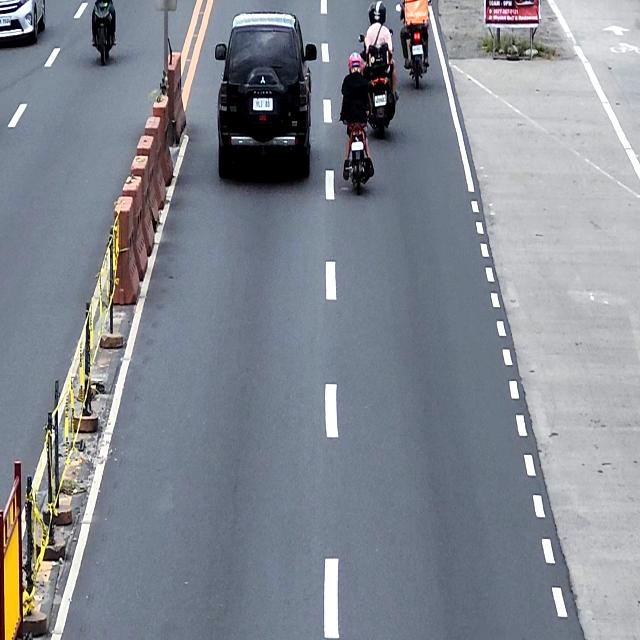Car: (214, 11, 317, 178), (0, 0, 48, 47)
License-Plate: (252, 94, 274, 112), (374, 94, 386, 106), (0, 16, 11, 27), (412, 44, 423, 54), (351, 142, 364, 150)
Motorcycle: (358, 33, 397, 138), (396, 2, 430, 89), (340, 115, 374, 195), (91, 0, 116, 65)
